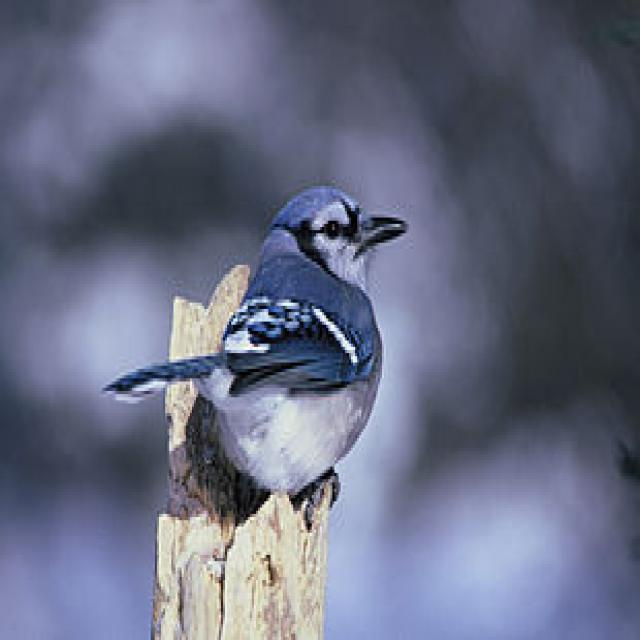bird: (109, 147, 432, 498)
